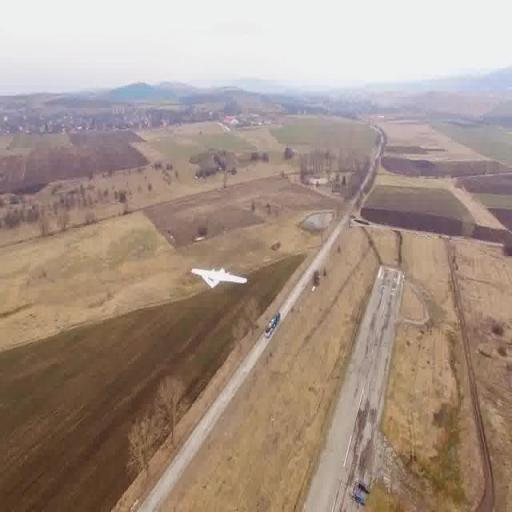uav: (190, 259, 250, 302)
